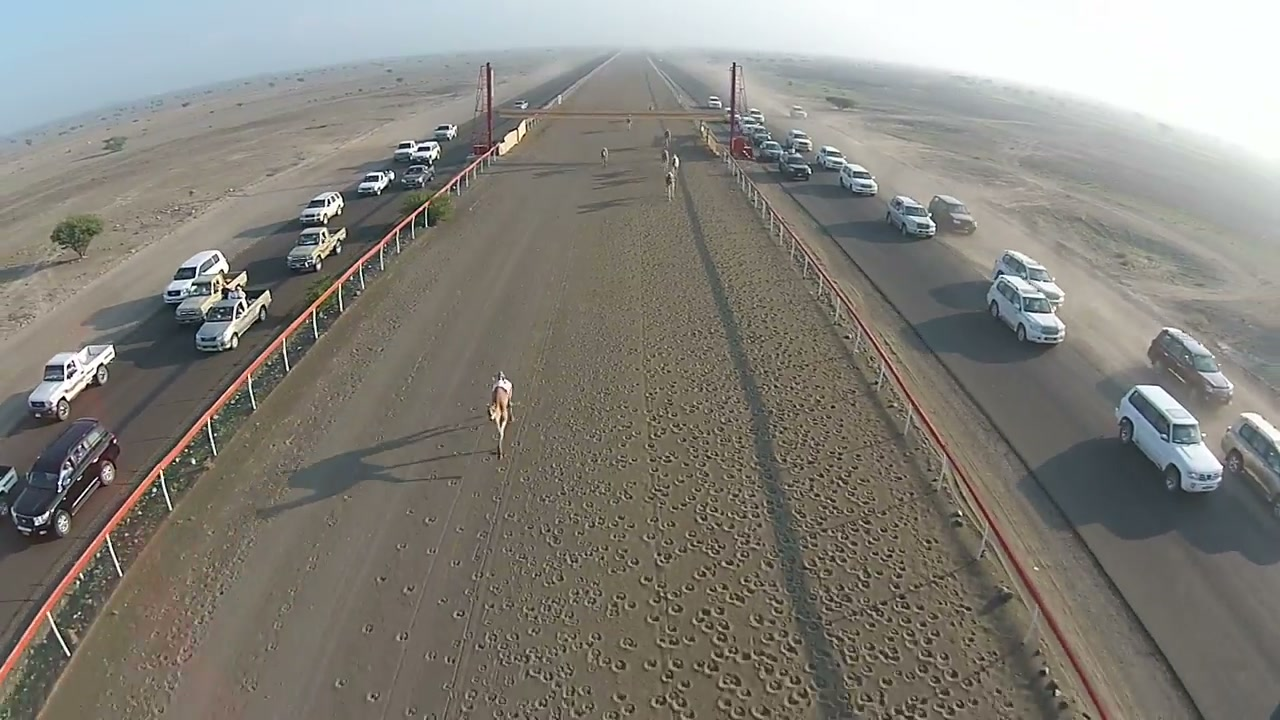animal_footprint: (542, 173, 1002, 713), (346, 474, 504, 697)
